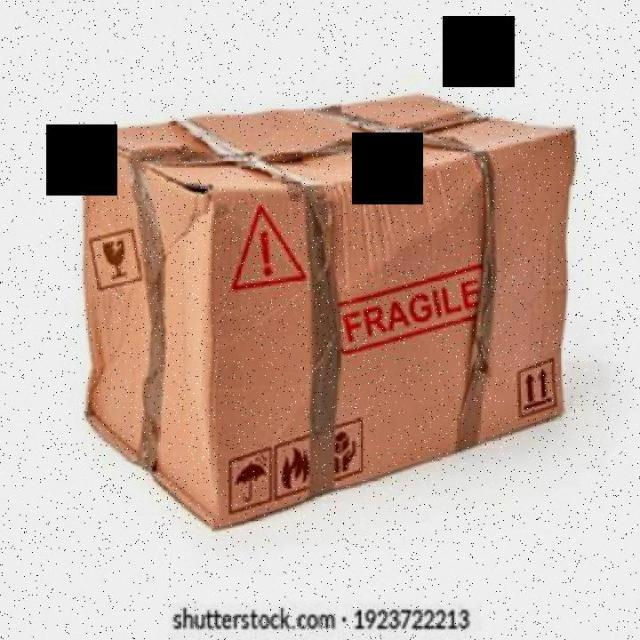box: (68, 92, 598, 536)
